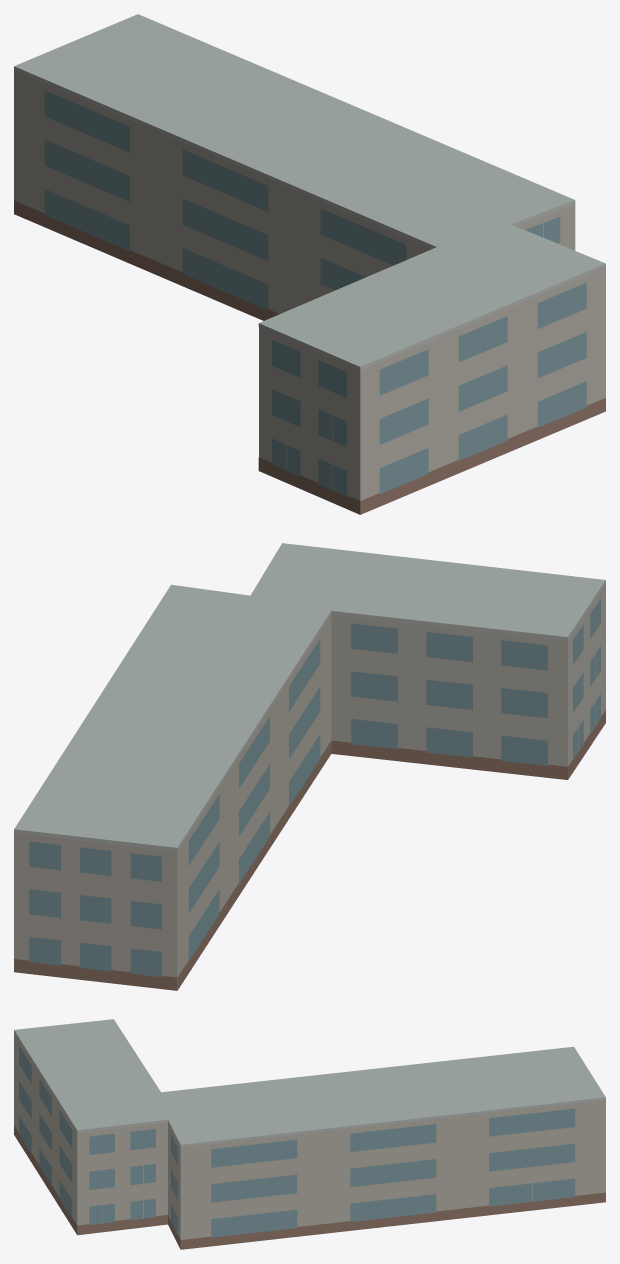
File: survey-upis-32640464.glb
3 renders of one model, top to bottom at view 1: azimuth 30°, elevation 25°; view 2: azimuth 150°, elevation 25°; view 3: azimuth 270°, elevation 25°, orthographic. The views are drawn at different scales.
Visible parts, largest first — view 1: survey-upis-32640464.tmp; view 2: survey-upis-32640464.tmp; view 3: survey-upis-32640464.tmp.
Part boxes in pixels (x1,y1,x2,y2): survey-upis-32640464.tmp: (14, 14, 605, 514); survey-upis-32640464.tmp: (14, 543, 605, 990); survey-upis-32640464.tmp: (14, 1019, 605, 1249).
Bounding box in the file's own units: 23.54 × 9.15 × 46.79.
